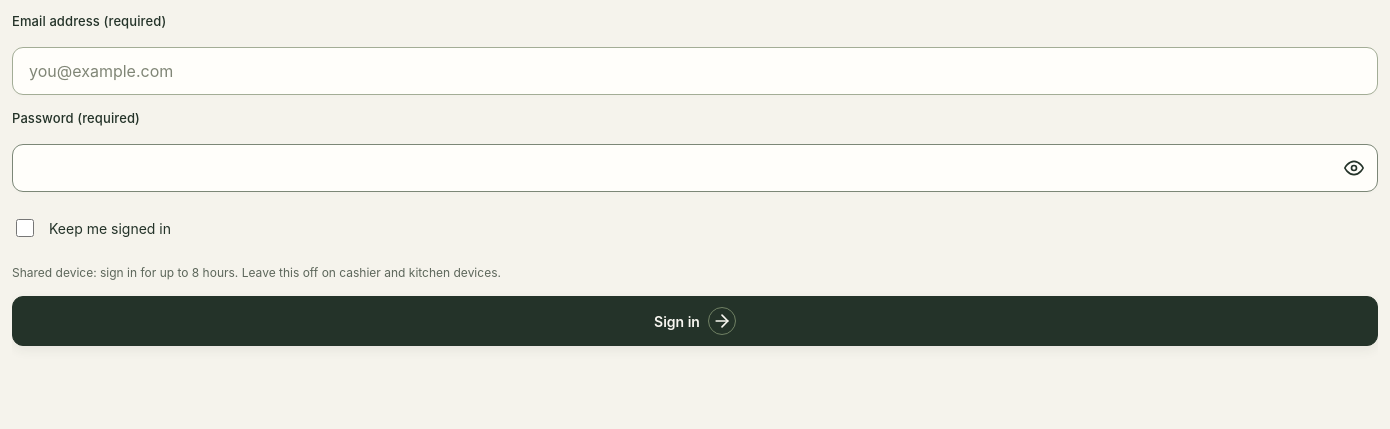
explains a sign-in connection failure while preserving the credentials for retry
The image size is (1390, 429).
Type "Owner@Example.com" into the field labelled "Email address" at [695, 71], box [12, 47, 1378, 95]
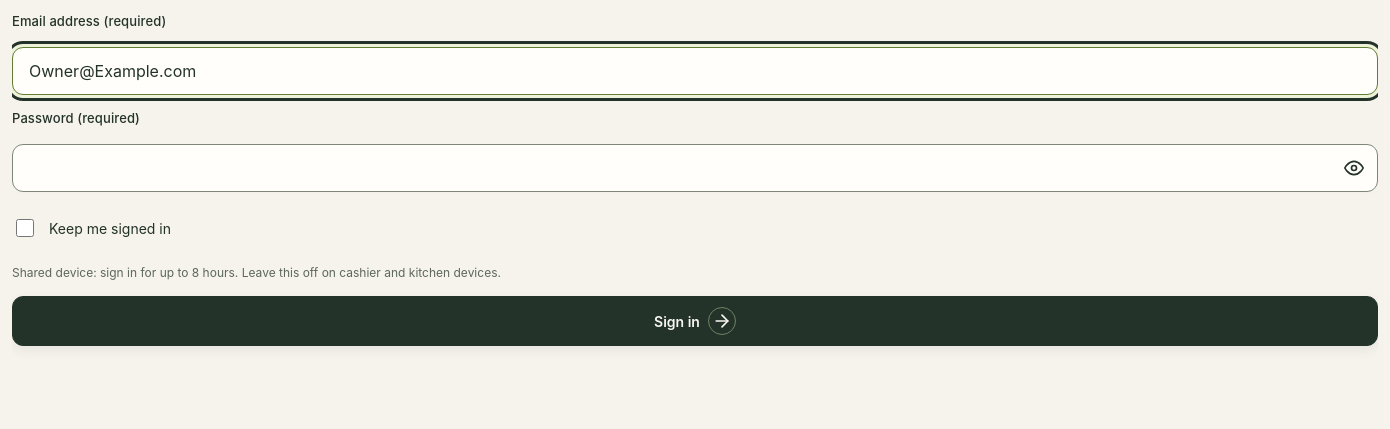
Type "  test passphrase  " into the password field labelled "Password" at [695, 168], box [12, 144, 1378, 192]
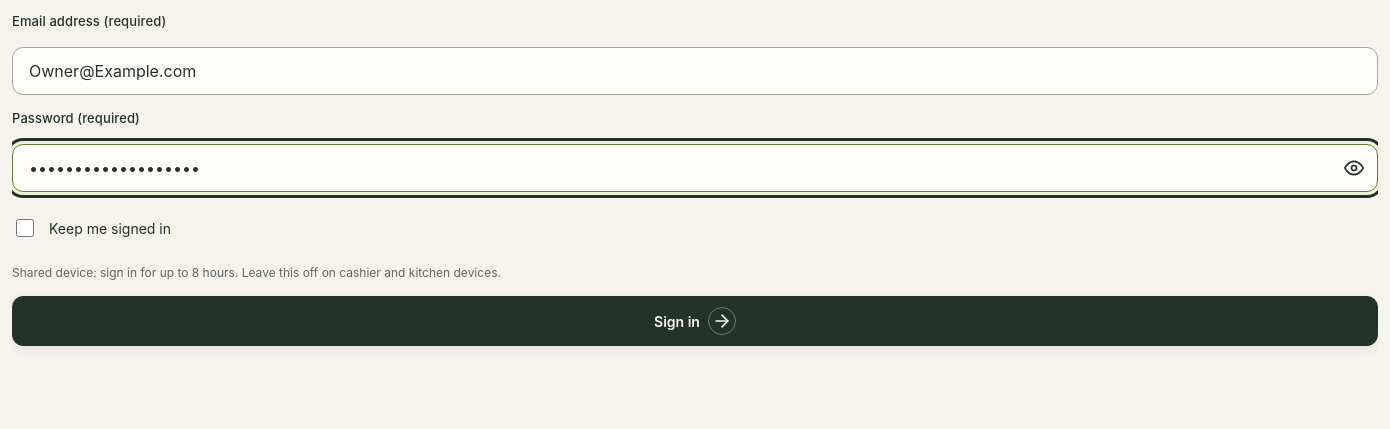
Click the button "Sign in" at [695, 321], box [12, 296, 1378, 346]
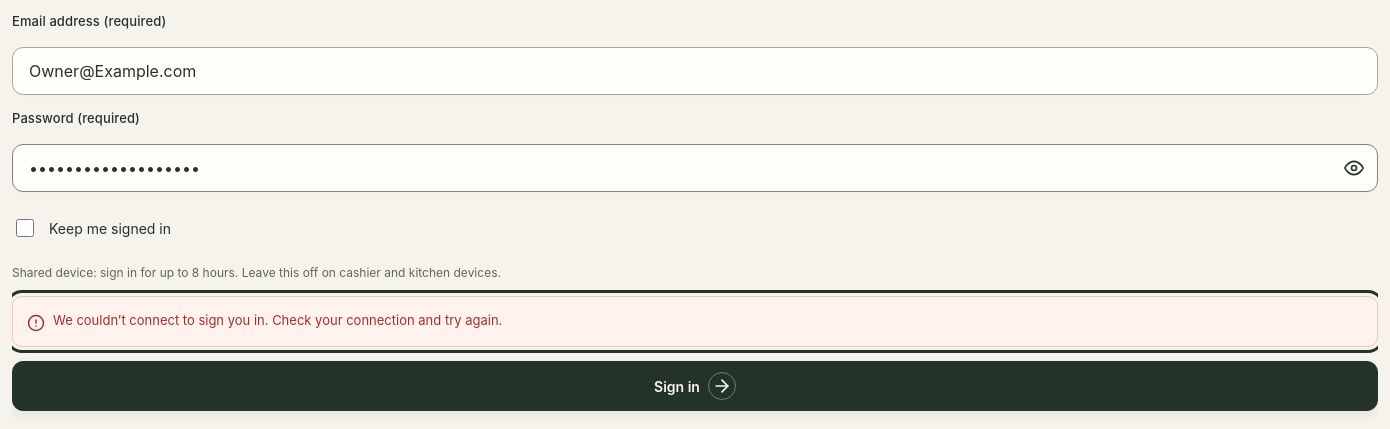
expect the button "Sign in" is enabled: met, box [12, 361, 1378, 411]
expect the message shows "Check your connection": met, box [53, 312, 502, 328]
